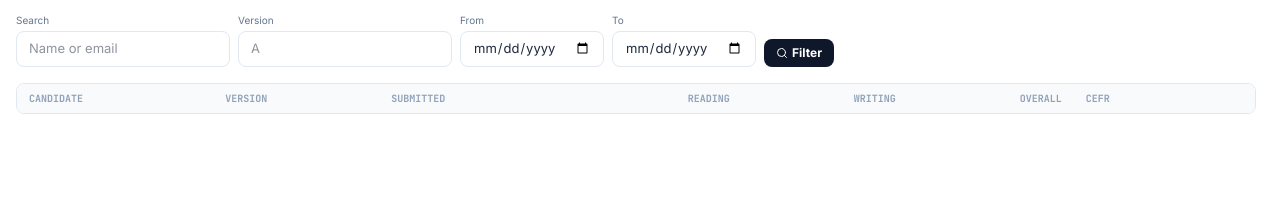
Test: ResultsTab › ignores failures from superseded results requests
Click the button "Filter": (799, 53) [764, 39, 834, 67]
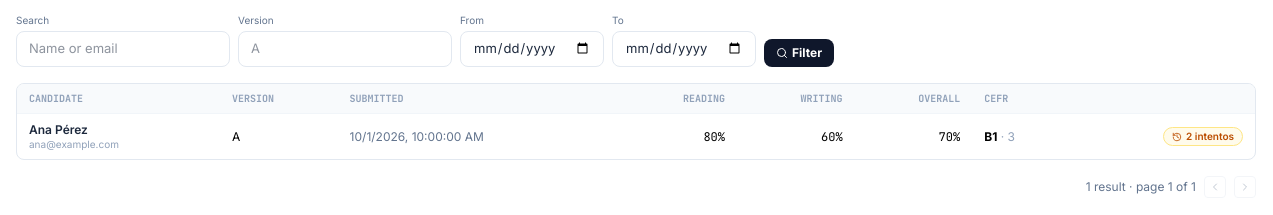
Result: the text "ana@example.com" is shown at [29, 138, 119, 150]
